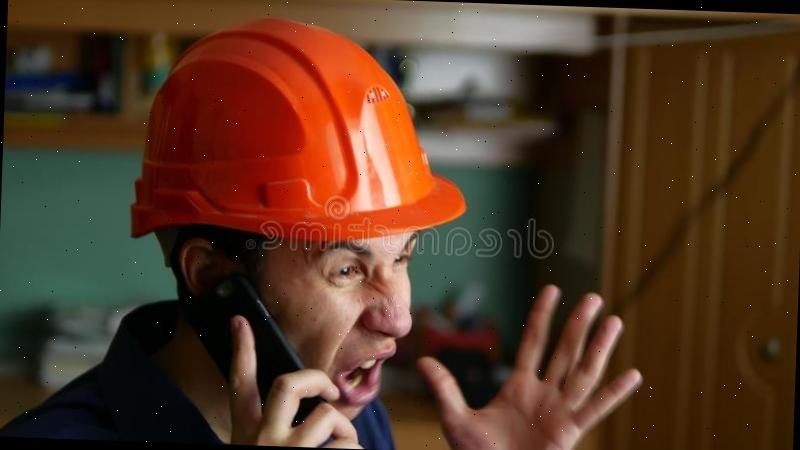helmet: (125, 10, 476, 254)
